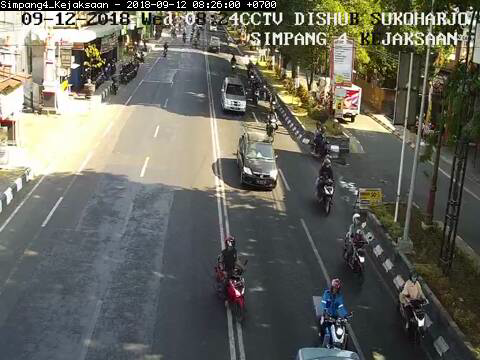motor: (211, 235, 256, 326), (397, 268, 432, 352), (318, 275, 352, 352), (343, 211, 373, 286), (313, 154, 340, 217), (265, 105, 281, 144)
